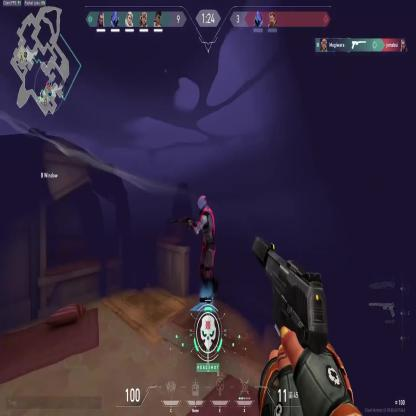enemy: (187, 192, 218, 310)
enemy_head: (197, 194, 206, 210)
